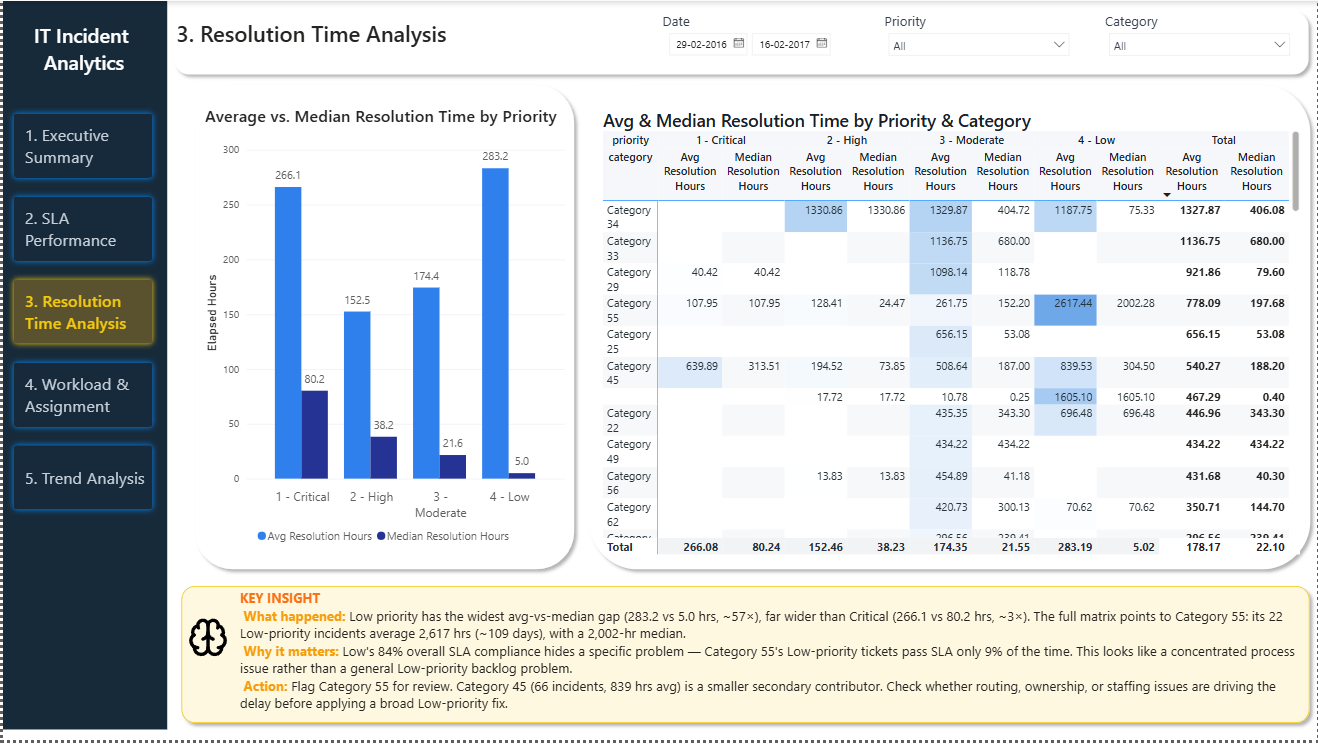

Layout of this report page (visuals, bound fields, positions):
{"tool":"powerbi","page":{"name":"3. Resolution Time Analysis","canvas":[1600,900],"ordinal":2},"visuals":[{"type":"shape","box":[200,5,1400,95],"z":0,"group":"g6"},{"type":"group","id":"g1","title":"Group 1","box":[224,94,480,608],"z":0,"group":"g4"},{"type":"shape","box":[224,94,480,608],"z":0,"group":"g1"},{"type":"shape","box":[704,94,896,608],"z":0,"group":"g2"},{"type":"textbox","box":[288,717.3,1296,160],"z":0,"group":"g7"},{"type":"clusteredColumnChart","title":"Average vs. Median Resolution Time by Priority","fields":{"Category":["incidents.priority"],"Y":["_Measures.Avg Resolution Hours","_Measures.Median Resolution Hours"]},"box":[240,126,448,544],"z":500,"group":"g1"},{"type":"pivotTable","title":"Avg & Median Resolution Time by Priority & Category","fields":{"Rows":["incidents.category"],"Values":["_Measures.Avg Resolution Hours","_Measures.Median Resolution Hours"],"Columns":["incidents.priority"]},"box":[730,130,848,544],"z":500,"group":"g2"},{"type":"shape","box":[0,-12,200,900],"z":1000,"group":"g8"},{"type":"group","id":"g2","title":"Group 3","box":[704,94,896,608],"z":1000,"group":"g4"},{"type":"image","box":[224,739.2,50,73.3],"z":1000,"group":"g7"},{"type":"actionButton","box":[0,0,100,40],"z":3000},{"type":"group","id":"g3","title":"Group 6","box":[0,-12,1600,900],"z":3001},{"type":"group","id":"g4","title":"Group 5","box":[224,94,1376,608],"z":3002},{"type":"group","id":"g5","title":"Group 1","box":[208,704,1392,185],"z":3003},{"type":"group","id":"g6","title":"Group 2","box":[200,5,1400,95],"z":7000,"group":"g3"},{"type":"slicer","title":"Date","fields":{"Values":["incidents.opened_at"]},"box":[800,14,240,65],"z":7000,"group":"g6"},{"type":"slicer","title":"Priority","fields":{"Values":["incidents.priority"]},"box":[1069.5,14,240,65],"z":8000,"group":"g6"},{"type":"shape","box":[208,704,1392,185],"z":8000,"group":"g5"},{"type":"slicer","title":"Category","fields":{"Values":["incidents.category"]},"box":[1339,14,240,65],"z":9000,"group":"g6"},{"type":"textbox","box":[208,18,350,49],"z":10000,"group":"g6"},{"type":"textbox","box":[18,20,154,76],"z":11000,"group":"g8"},{"type":"pageNavigator","box":[6,130,184,500],"z":12000,"group":"g8"},{"type":"group","id":"g7","title":"Group 3","box":[224,717.3,1360,160],"z":13000,"group":"g5"},{"type":"group","id":"g8","title":"Group 4","box":[0,-12,200,900],"z":13001,"group":"g3"}]}

Visuals, with their boxes on the page's 1600x900 design canvas (x1, y1, x2, y2). These are canvas units, not pixel positions in the 1318x745 screenshot, which may show the page scaled, cropped or inside an application window:
shape: locate(200, 5, 1600, 100)
"Group 1" group: locate(224, 94, 704, 702)
shape: locate(224, 94, 704, 702)
shape: locate(704, 94, 1600, 702)
textbox: locate(288, 717, 1584, 877)
"Average vs. Median Resolution Time by Priority" clusteredColumnChart: locate(240, 126, 688, 670)
"Avg & Median Resolution Time by Priority & Category" pivotTable: locate(730, 130, 1578, 674)
shape: locate(0, -12, 200, 888)
"Group 3" group: locate(704, 94, 1600, 702)
image: locate(224, 739, 274, 812)
actionButton: locate(0, 0, 100, 40)
"Group 6" group: locate(0, -12, 1600, 888)
"Group 5" group: locate(224, 94, 1600, 702)
"Group 1" group: locate(208, 704, 1600, 889)
"Group 2" group: locate(200, 5, 1600, 100)
"Date" slicer: locate(800, 14, 1040, 79)
"Priority" slicer: locate(1070, 14, 1310, 79)
shape: locate(208, 704, 1600, 889)
"Category" slicer: locate(1339, 14, 1579, 79)
textbox: locate(208, 18, 558, 67)
textbox: locate(18, 20, 172, 96)
pageNavigator: locate(6, 130, 190, 630)
"Group 3" group: locate(224, 717, 1584, 877)
"Group 4" group: locate(0, -12, 200, 888)
